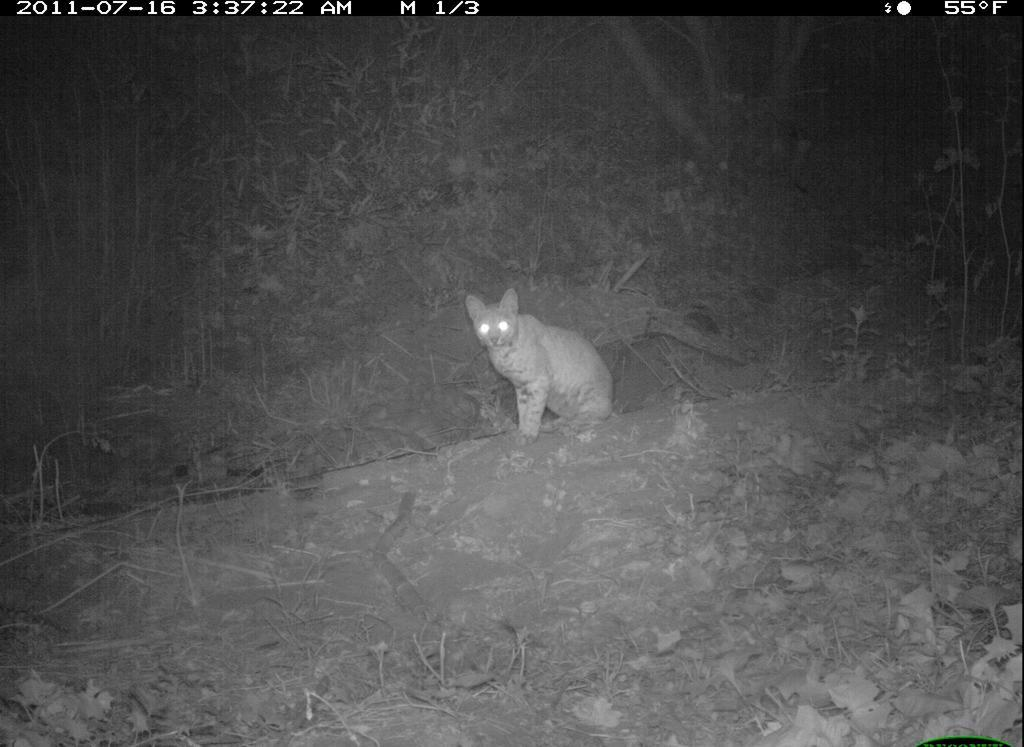bobcat: (461, 282, 622, 456)
